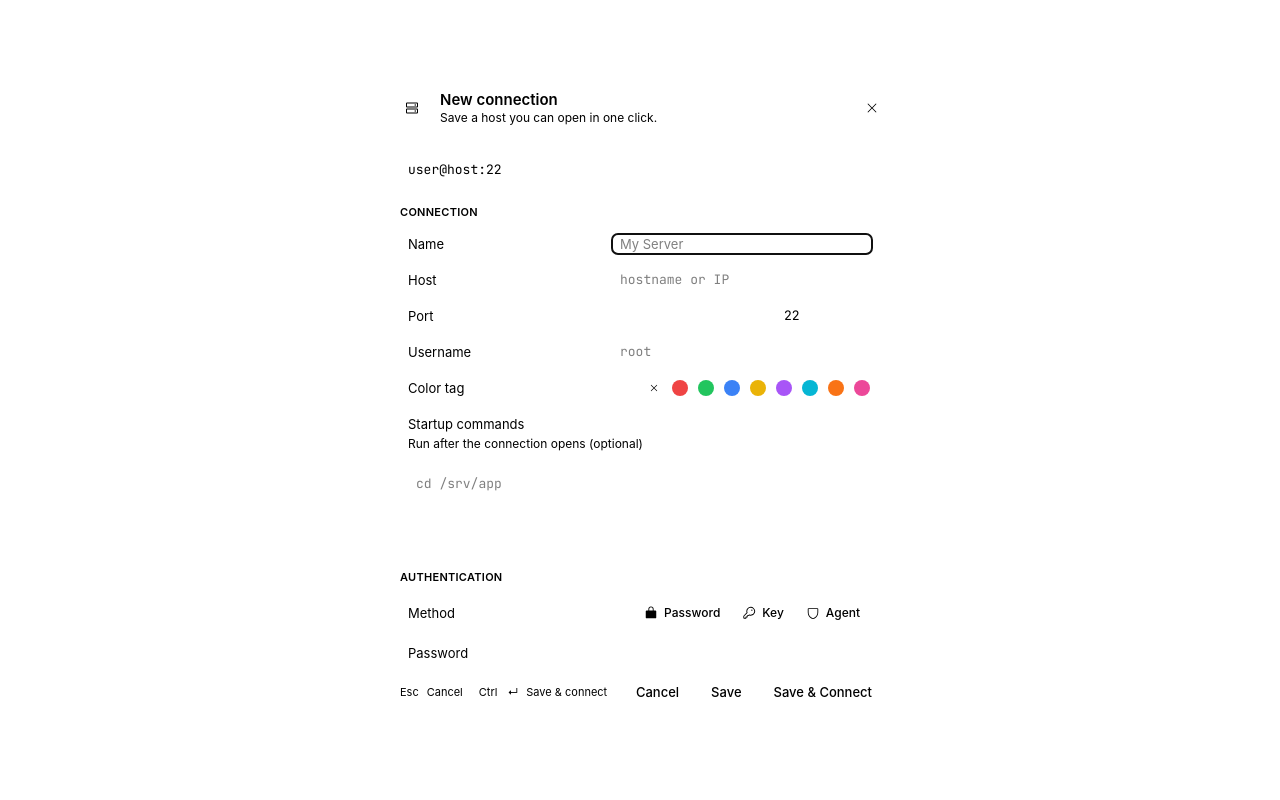
it: ConnectionDialog › shows an inline error and stays open when saving is rejected
This screenshot has width=1280, height=800.
Expected: the dialog is shown, [380,80,900,720]
In the field labelled "Name": (742, 244) [612,234,872,254], type "dev"
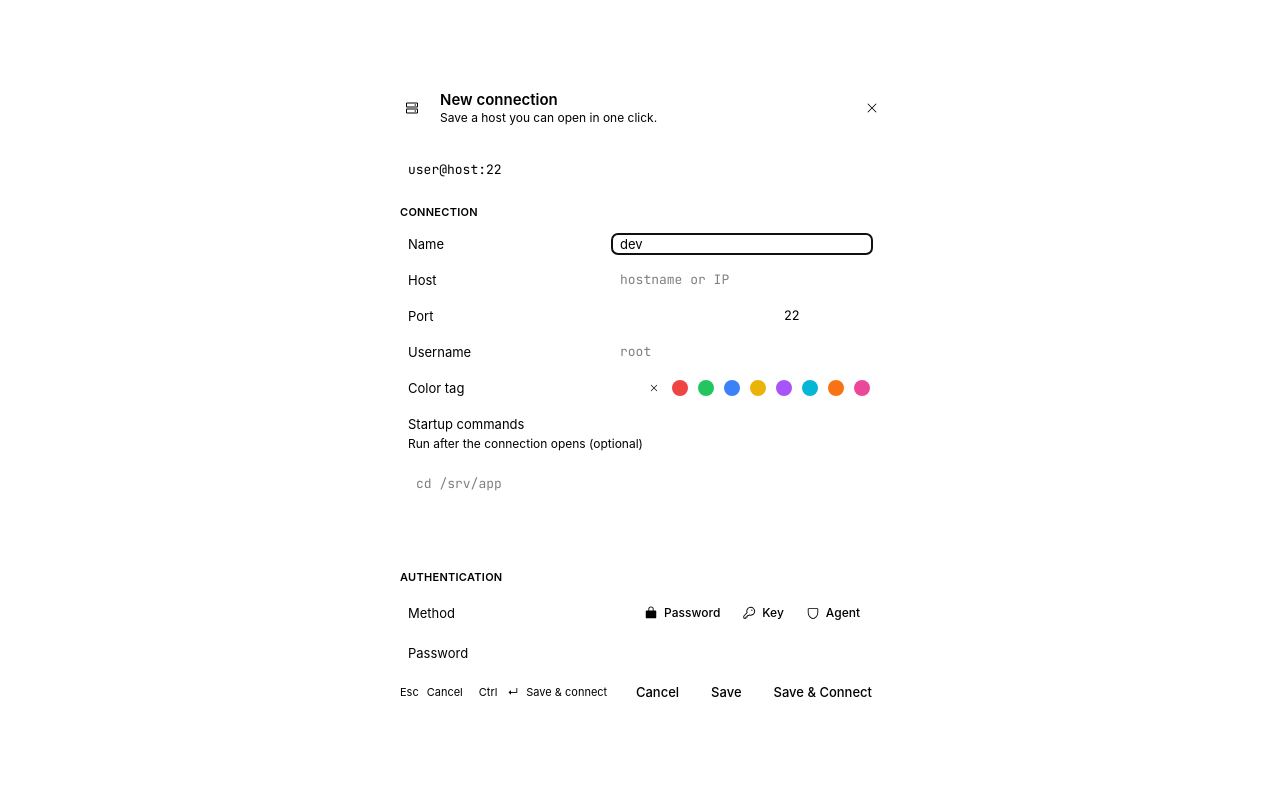
In the field labelled "Host": (742, 280) [612,270,872,290], type "dev.local"
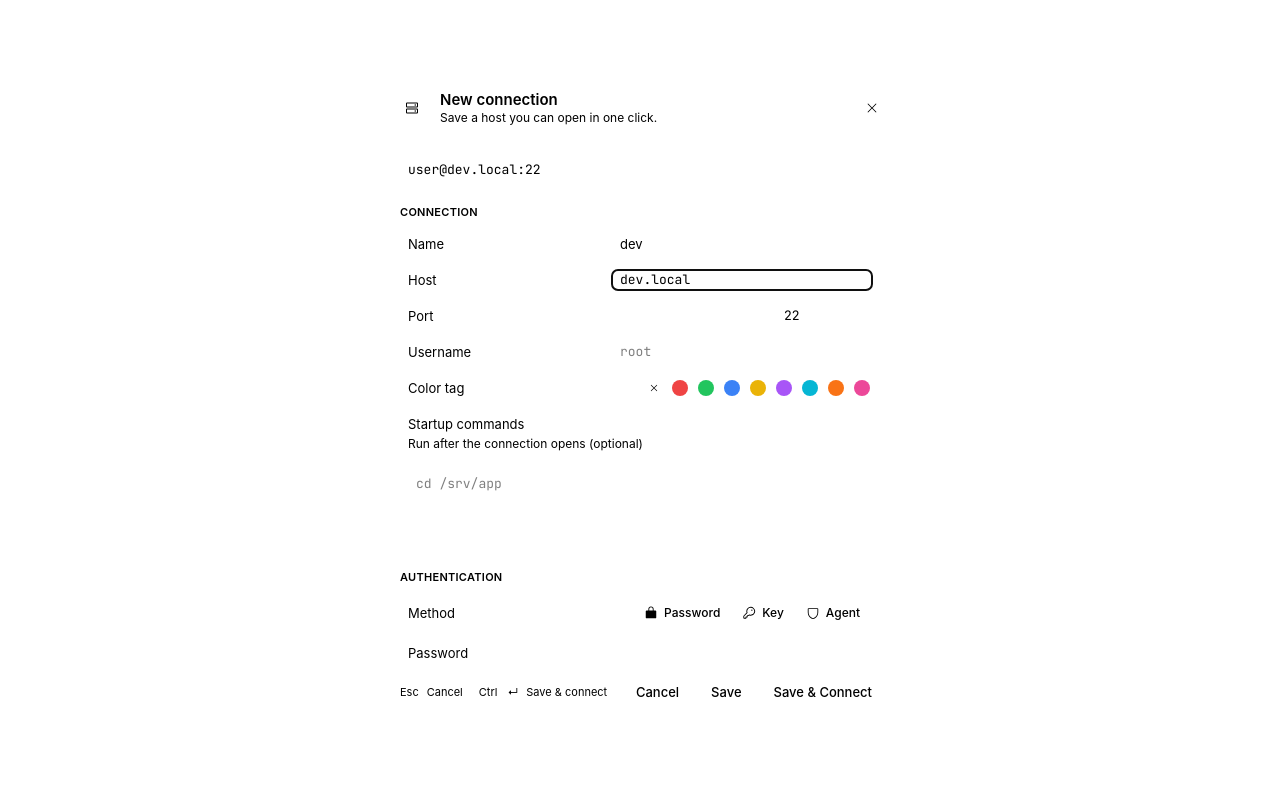
In the field labelled "Username": (742, 352) [612,342,872,362], type "me"
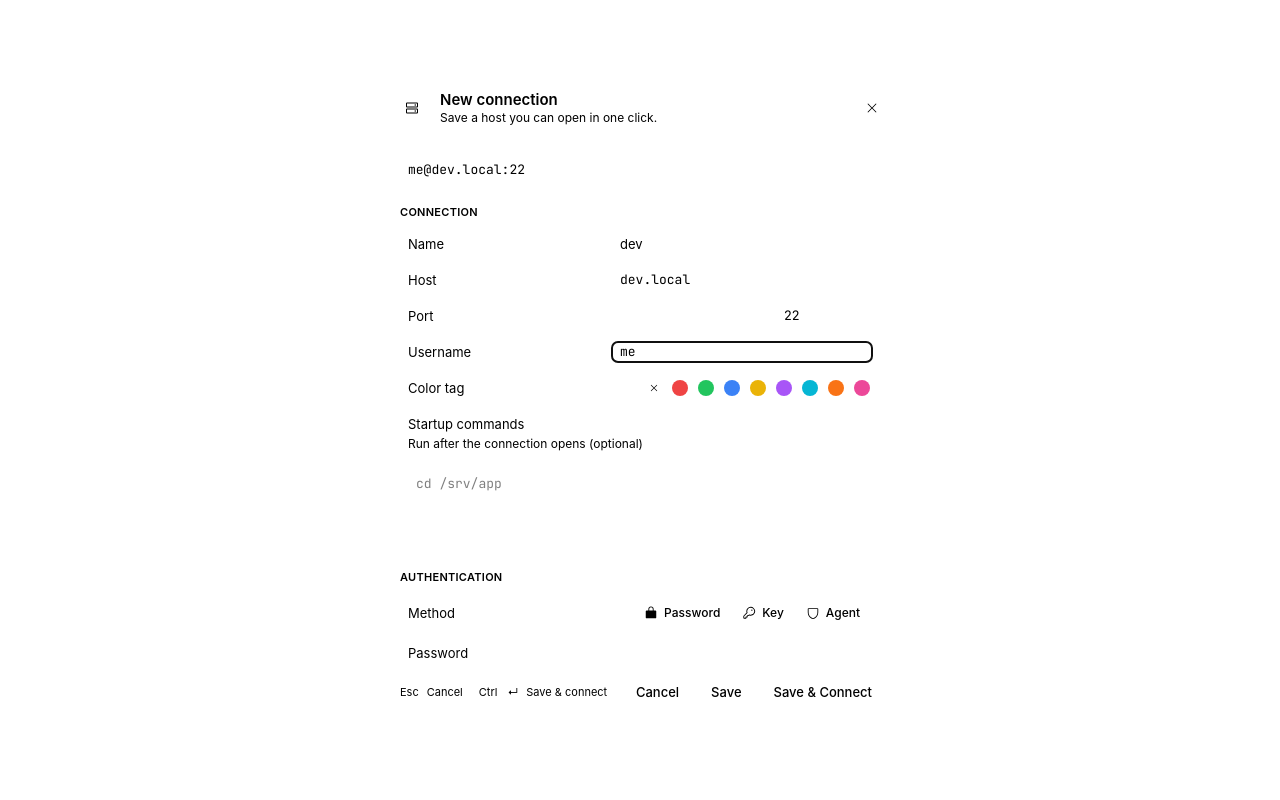
Click the button "Save": (726, 692) [699,682,754,702]
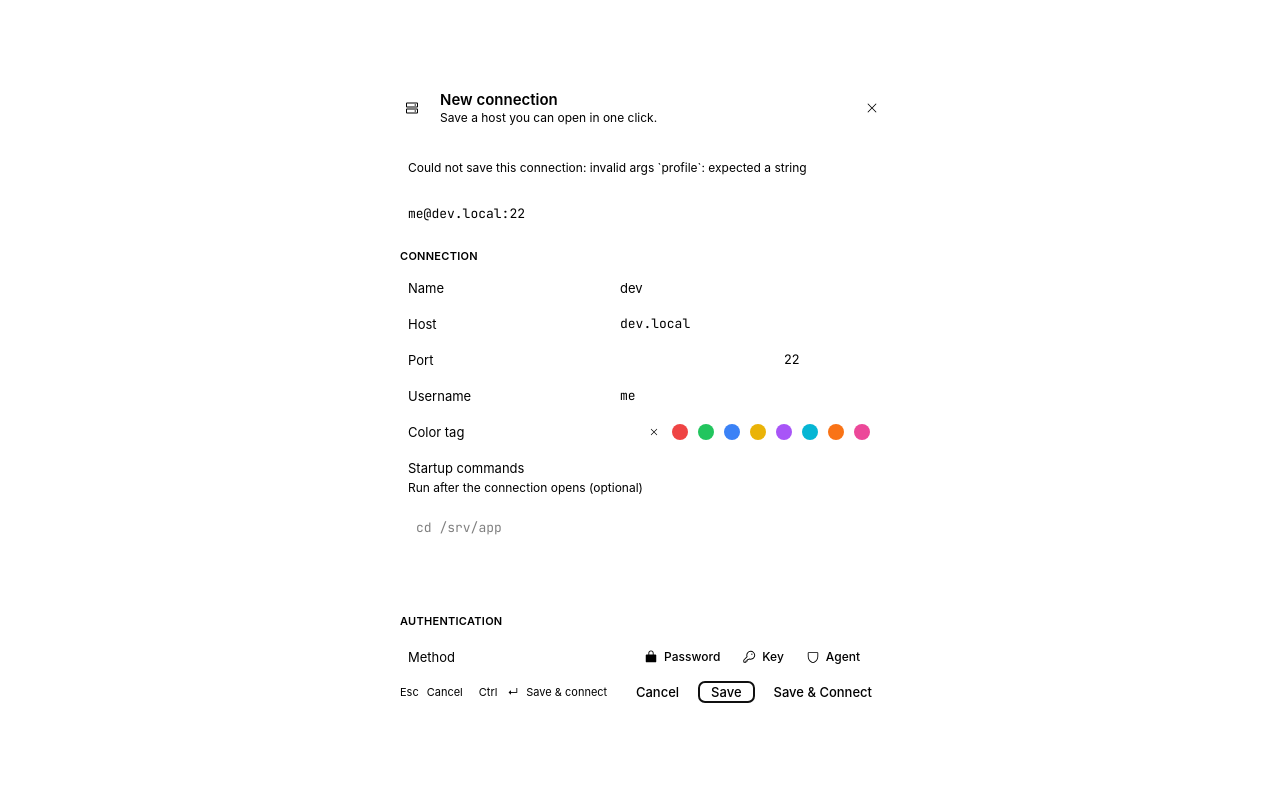
Expected: the message shows "Could not save", [408,160,590,175]
Expected: the message shows "expected a string", [590,160,807,175]
